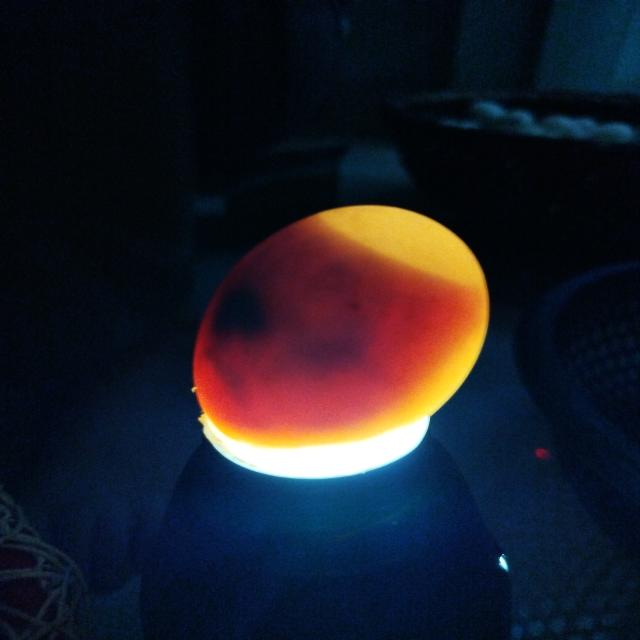Area Infectada: (201, 231, 375, 403)
